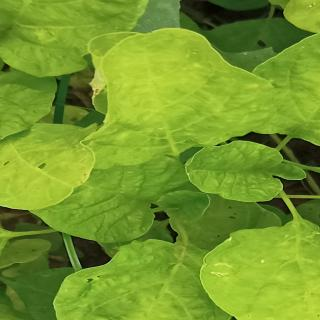virus_keriting: (48, 238, 212, 320), (0, 0, 182, 66)
